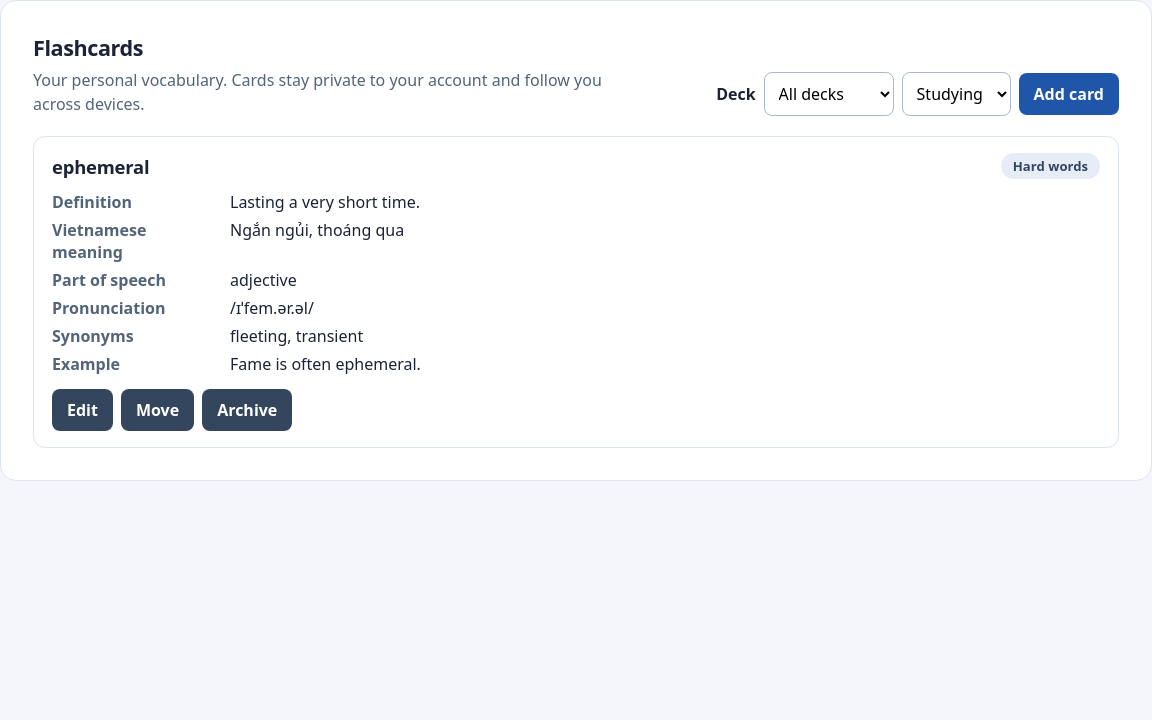
Test: moves a card and warns about a duplicate in the chosen deck before moving
Click the button "Move" at (158, 410), box [121,389,194,431]
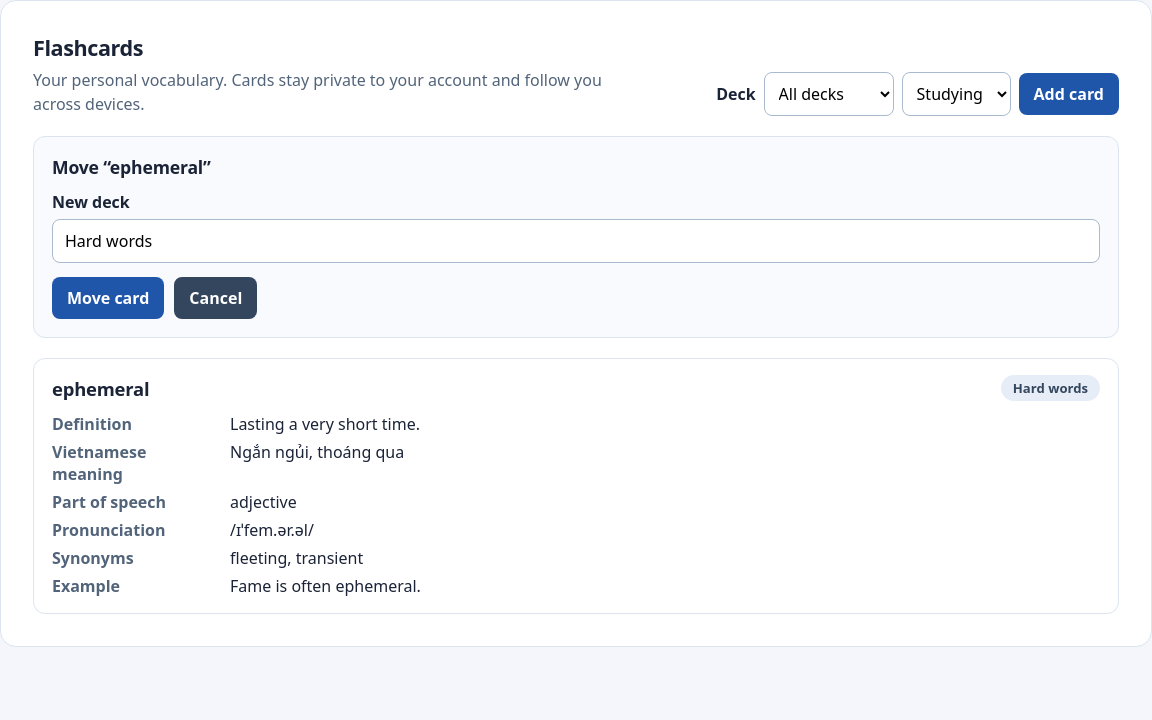
Replace the text in the field labelled "New deck" with "My words" at (576, 241), box [52,219,1100,263]
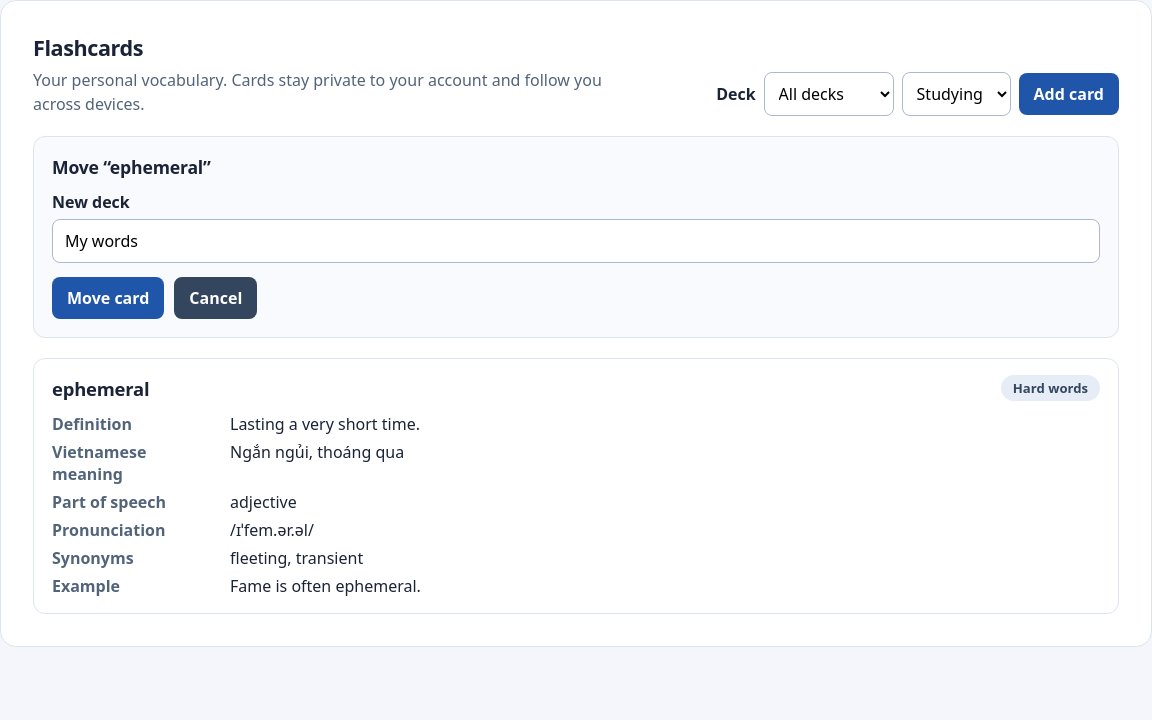
Click the button "Move card" at (108, 298), box [52,277,164,319]
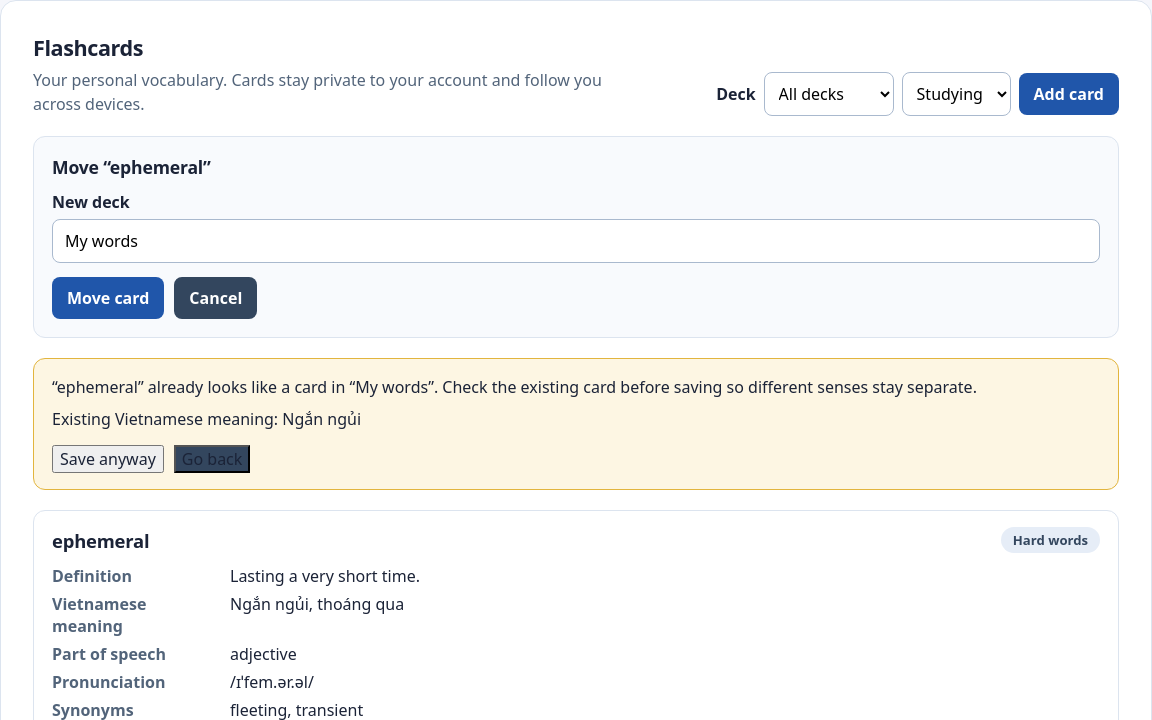
Expected: the message shows "already looks like a card in “My words”", [33,358,1119,490]
Click the button "Save anyway" at (108, 459), box [52,445,164,473]
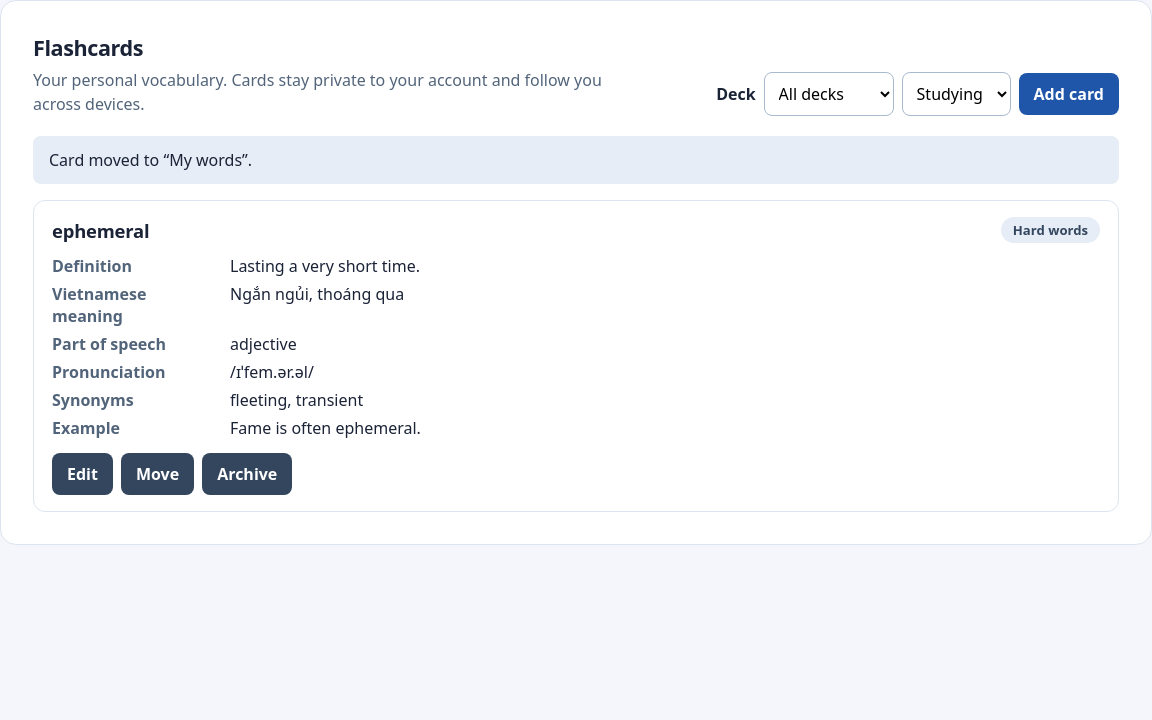
Expected: the text "Card moved to “My words”." is shown, [33,136,1119,184]
